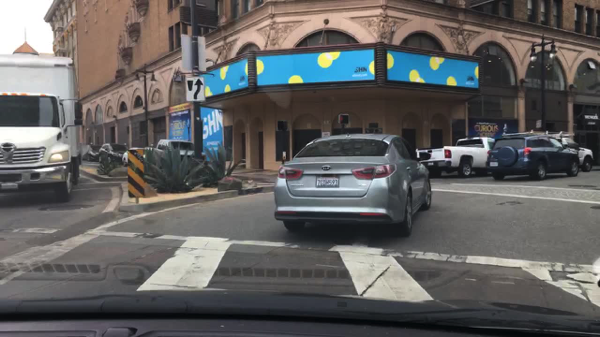car: (274, 133, 431, 237), (485, 128, 579, 182), (157, 138, 206, 163), (123, 147, 162, 166), (97, 145, 128, 166), (80, 143, 103, 161)
traffic light: (337, 112, 350, 125), (276, 119, 286, 131)
traffic sign: (180, 33, 206, 74), (184, 78, 205, 103)
truck: (0, 53, 83, 201), (416, 135, 495, 179), (545, 130, 594, 173)
